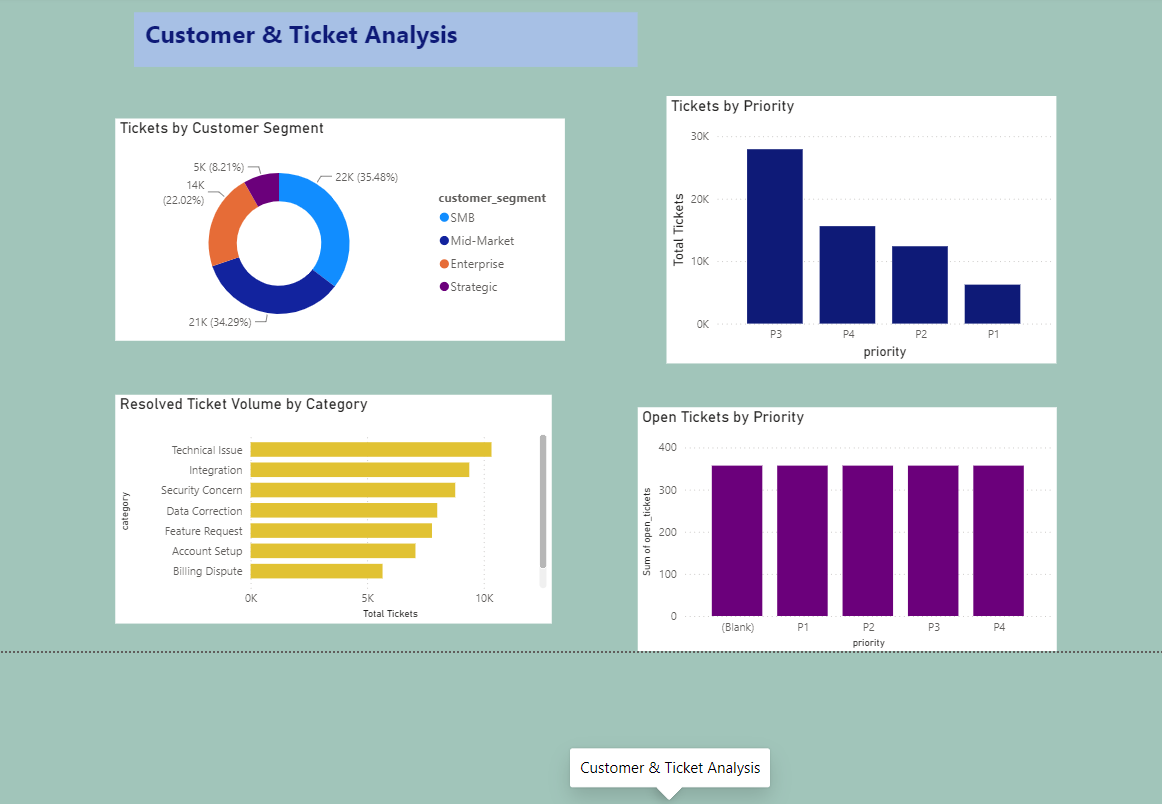

The page's visual inventory and layout, read from the dashboard file:
{"tool":"powerbi","page":{"name":"Customer & Ticket Analysis","canvas":[1280,720],"ordinal":2},"visuals":[{"type":"donutChart","title":"Tickets by Customer Segment","fields":{"Category":["tickets_resolved.customer_segment"],"Y":["category_kpi.Total Tickets"]},"box":[127.6,134.5,494,244.3],"z":0},{"type":"clusteredColumnChart","title":"Tickets by Priority","fields":{"Category":["tickets_resolved.priority"],"Y":["category_kpi.Total Tickets"]},"box":[732.8,109.8,428.1,293.7],"z":1000},{"type":"barChart","title":"Resolved Ticket Volume by Category","fields":{"Category":["tickets_resolved.category"],"Y":["category_kpi.Total Tickets"]},"box":[127.6,437.7,478.9,251.1],"z":2000},{"type":"clusteredColumnChart","title":"Open Tickets by Priority","fields":{"Category":["tickets_resolved.priority"],"Y":["Sum(kpi_summary.open_tickets)"]},"box":[701.2,451.5,459.7,269],"z":3000},{"type":"textbox","box":[148.2,17.8,553,60.4],"z":3001}]}

Visuals, with their boxes on the page's 1280x720 design canvas (x1, y1, x2, y2). These are canvas units, not pixel positions in the 1162x804 screenshot, which may show the page scaled, cropped or inside an application window:
"Tickets by Customer Segment" donutChart: BBox(128, 134, 622, 379)
"Tickets by Priority" clusteredColumnChart: BBox(733, 110, 1161, 404)
"Resolved Ticket Volume by Category" barChart: BBox(128, 438, 606, 689)
"Open Tickets by Priority" clusteredColumnChart: BBox(701, 452, 1161, 720)
textbox: BBox(148, 18, 701, 78)
